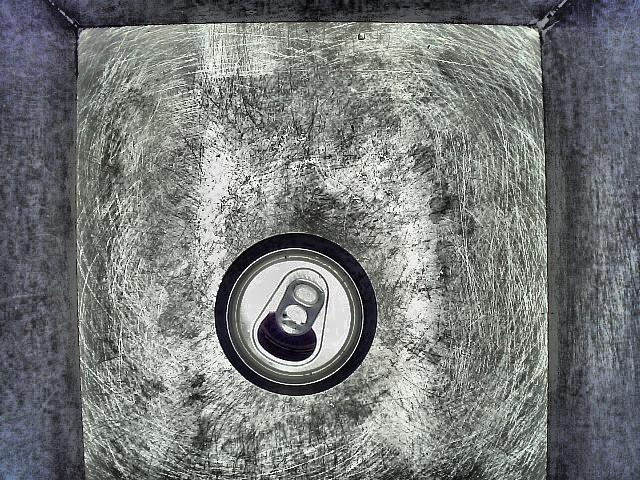Bottles: (202, 223, 376, 407)
